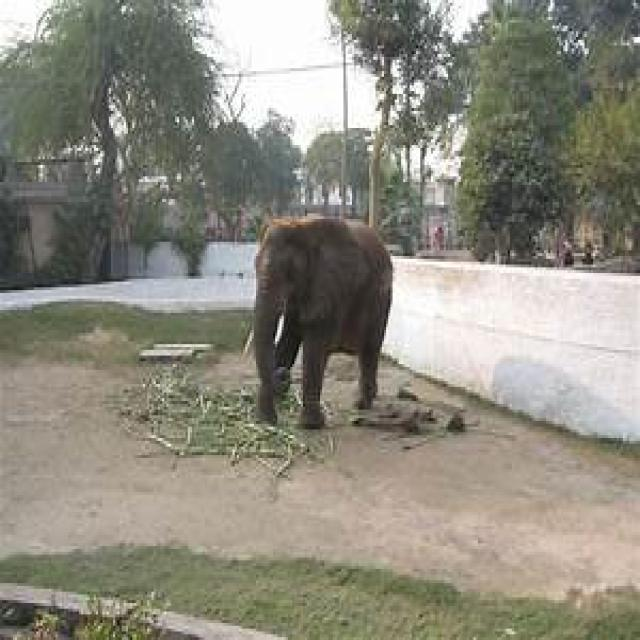elephant: (254, 216, 395, 430)
